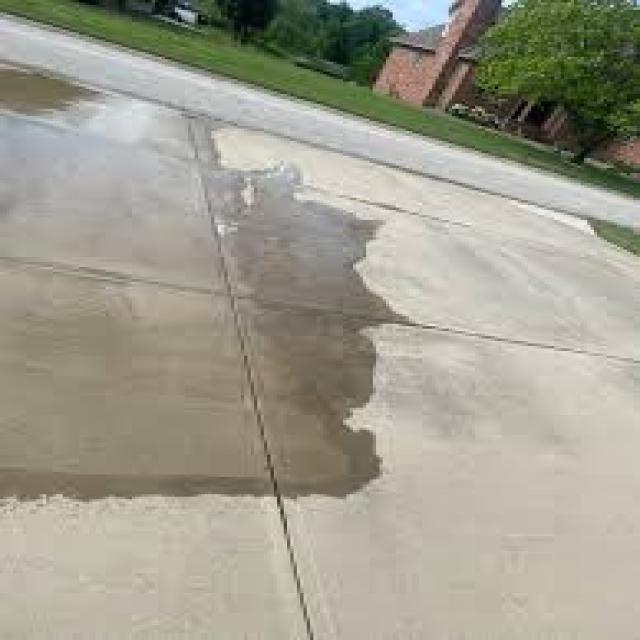water accumulation: (0, 66, 407, 498)
